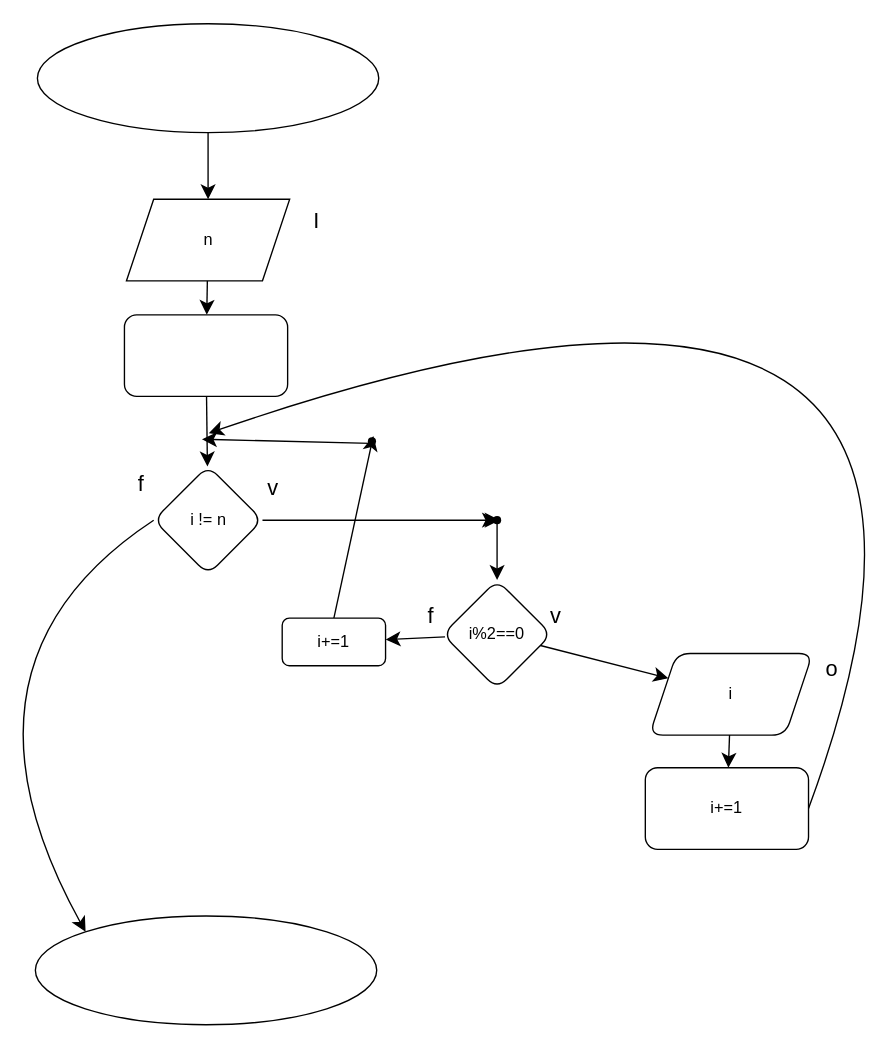
The diagram is 889 pixels wide and 1049 high, and some of its shapes have lost their labels. The shapes that lost their labels are listed below. From the top down, each one's centre as x and y in pixels, then its label:
the point at 207,77: INIZIO
the point at 205,354: i=0
the point at 205,970: FINE
